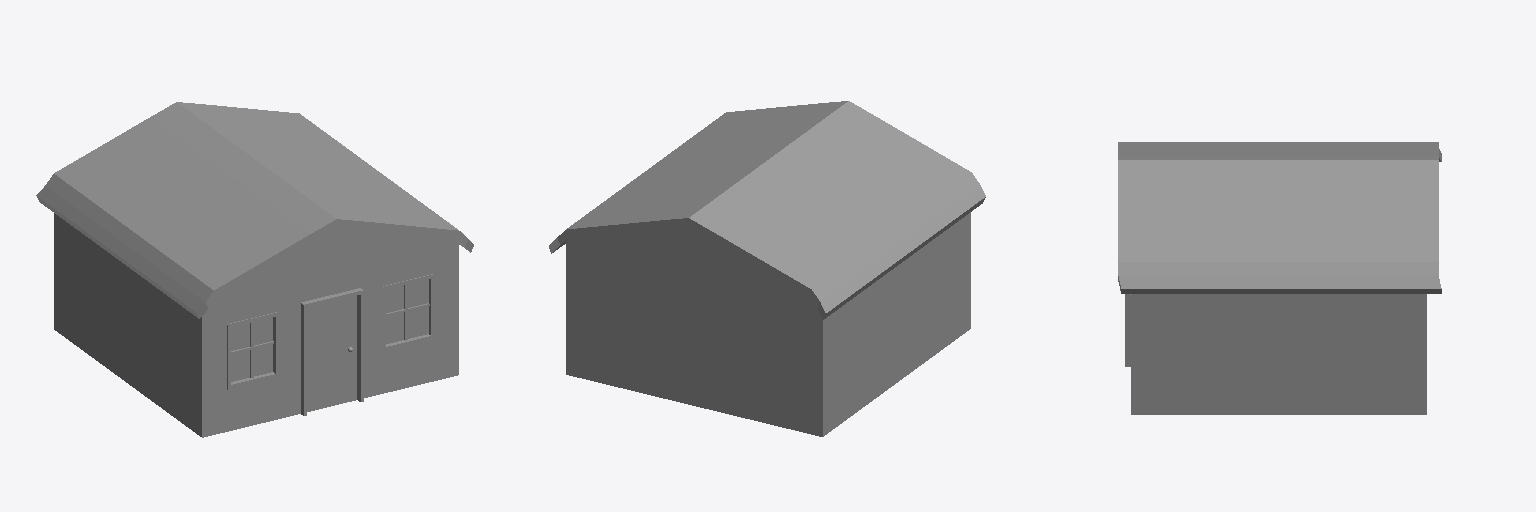
Rendered from HOUSE.obj.
3 renders of one model, left to right at view 1: azimuth 30°, elevation 25°; view 2: azimuth 150°, elevation 25°; view 3: azimuth 270°, elevation 25°, orthographic.
Visible parts, largest first — view 1: Cube; view 2: Cube; view 3: Cube.
Part boxes in pixels (left/top/right/bottom): Cube: left=36, top=102, right=473, bottom=437; Cube: left=549, top=101, right=985, bottom=436; Cube: left=1118, top=142, right=1441, bottom=414.
Size of the model in its own units: 2.16 by 1.43 by 2.18.